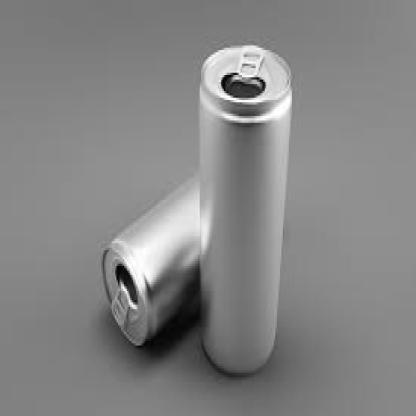trash: (102, 45, 291, 373), (200, 45, 291, 373), (101, 176, 199, 345)
